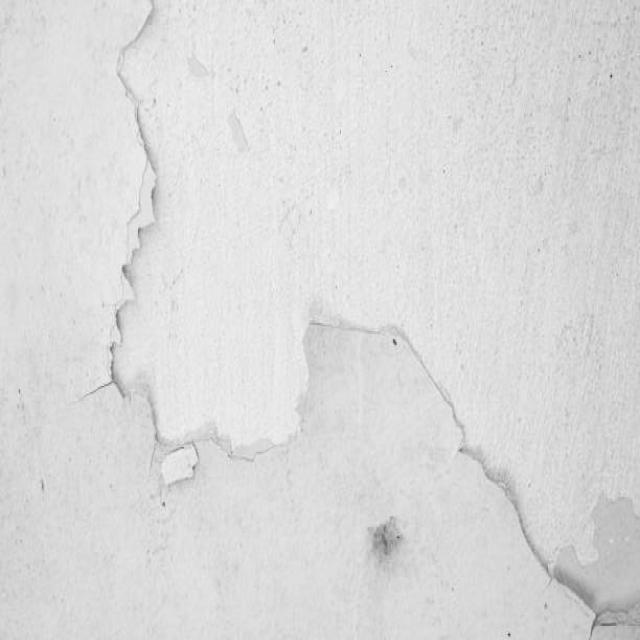peeling paint: (60, 3, 640, 638)
